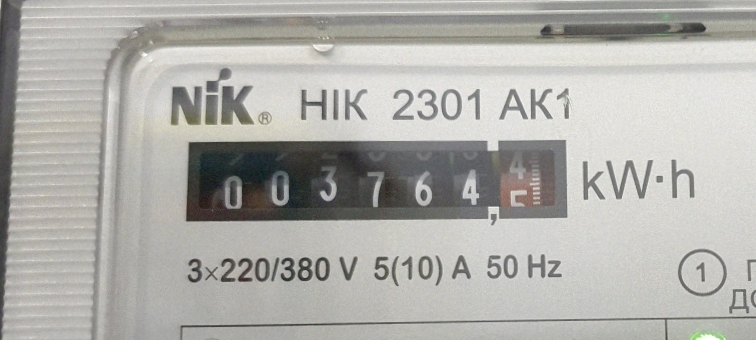0: (220, 172, 244, 210), (268, 168, 290, 207)
3: (316, 163, 339, 203)
4: (460, 167, 480, 206), (507, 148, 528, 180)
5: (507, 187, 529, 209)
6: (413, 168, 434, 207)
7: (364, 167, 387, 209)
screen: (170, 122, 583, 236)
